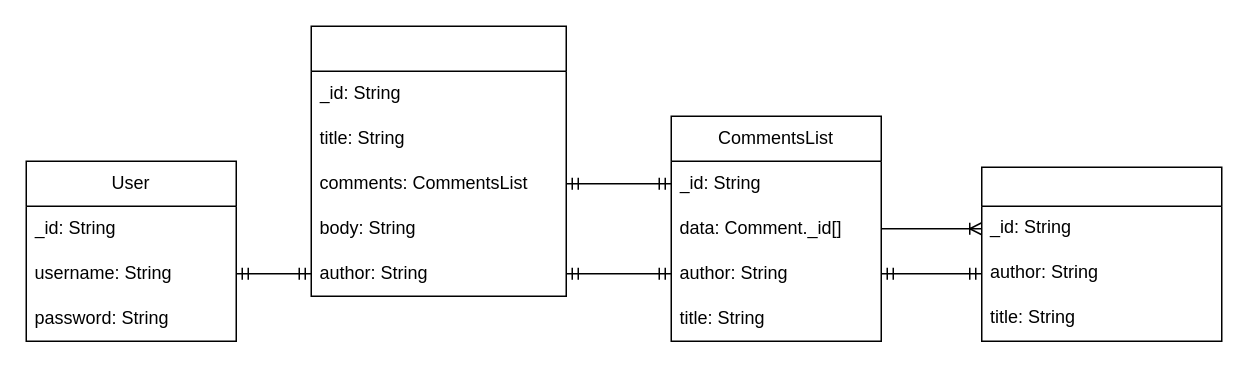
Image size: 1248x372. Some labels were removed from this diagram. Each missing label, with the box of its shape:
Comment: (980, 166, 1222, 341)
Post: (310, 25, 566, 296)
